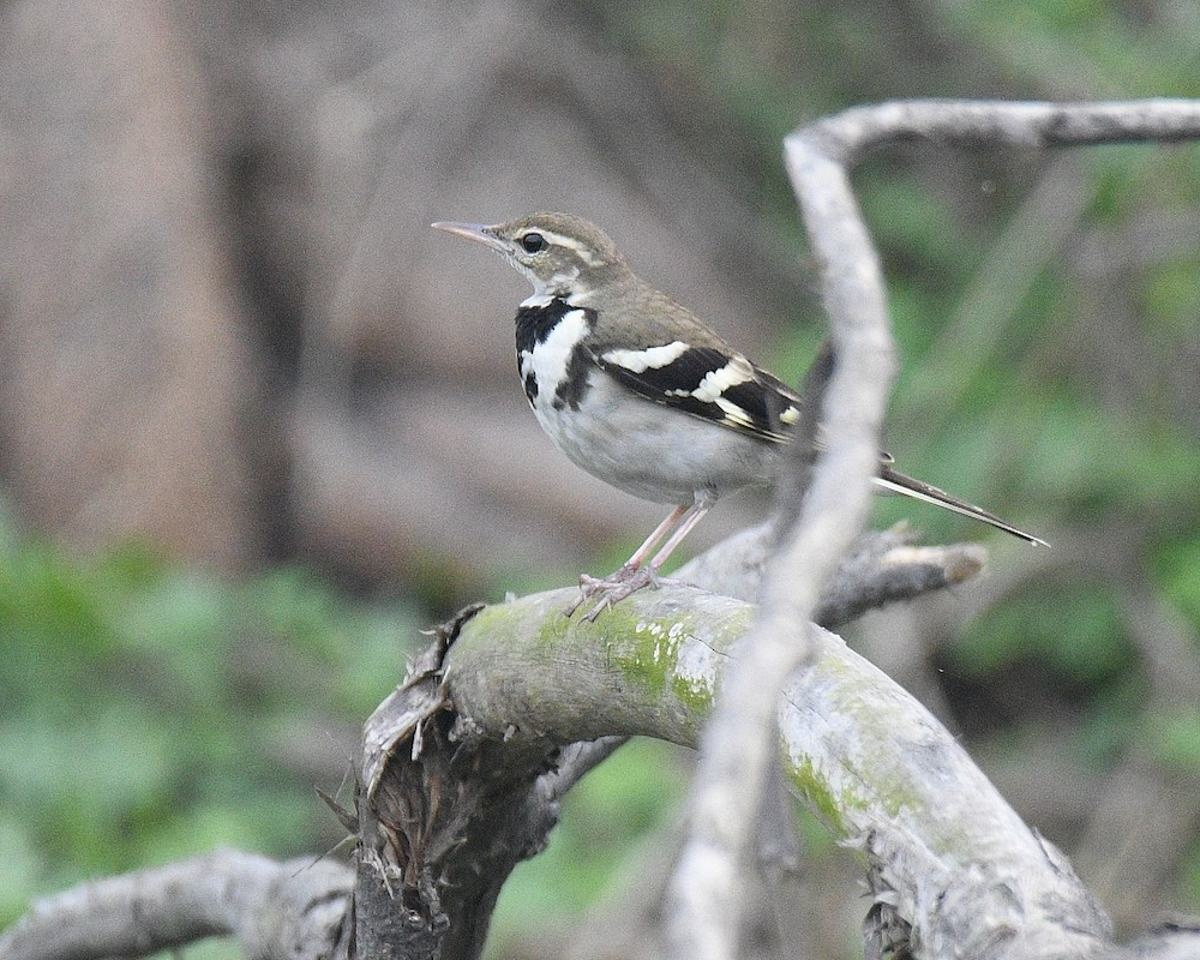wagtail: (420, 183, 969, 587)
